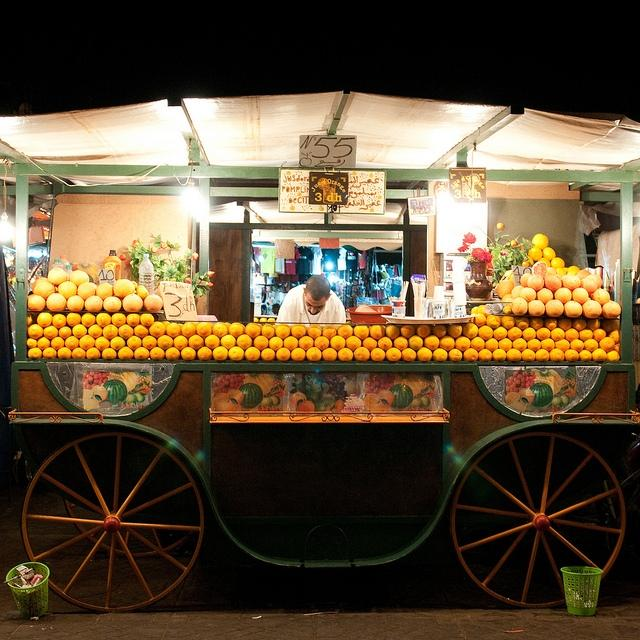orange: (216, 396, 238, 416), (113, 278, 135, 298), (122, 294, 144, 312), (58, 281, 78, 300), (590, 288, 610, 306), (144, 294, 164, 312), (376, 389, 394, 408), (96, 282, 114, 300), (544, 275, 562, 292), (512, 297, 528, 316), (408, 334, 424, 352), (598, 337, 616, 353), (90, 385, 108, 401), (28, 295, 46, 311), (455, 334, 471, 352), (528, 274, 545, 290), (149, 322, 166, 338), (102, 324, 119, 340), (95, 312, 112, 328), (532, 233, 548, 250), (196, 322, 213, 338), (346, 335, 362, 352), (188, 334, 204, 350), (212, 322, 228, 338), (166, 322, 182, 338), (337, 324, 353, 340), (440, 335, 456, 351), (28, 324, 44, 340), (463, 323, 479, 339), (532, 262, 548, 278), (362, 336, 378, 352), (236, 334, 252, 350), (79, 334, 95, 350), (80, 312, 96, 328), (354, 346, 371, 361), (110, 336, 126, 351), (330, 336, 346, 351), (291, 392, 307, 407), (306, 346, 322, 361), (228, 346, 244, 361), (205, 334, 220, 350), (385, 324, 400, 340), (322, 325, 337, 341), (37, 312, 52, 328), (424, 335, 439, 351), (244, 346, 260, 361), (94, 336, 110, 351), (118, 324, 134, 339), (43, 325, 58, 340), (52, 314, 67, 329), (354, 325, 369, 340), (432, 323, 447, 338), (417, 347, 432, 362), (66, 313, 81, 328), (432, 348, 448, 362), (512, 338, 528, 352), (245, 324, 261, 338), (182, 322, 196, 338), (64, 336, 80, 350), (298, 336, 314, 350), (506, 348, 522, 362), (540, 338, 556, 352), (554, 338, 570, 352), (228, 324, 244, 338), (212, 346, 228, 360), (142, 336, 158, 350), (386, 348, 402, 362), (370, 325, 386, 339), (584, 338, 600, 352), (117, 346, 134, 359), (378, 336, 392, 351), (447, 324, 462, 338), (72, 324, 87, 338), (88, 324, 103, 338), (284, 336, 298, 351), (394, 336, 408, 351), (486, 315, 501, 329), (198, 346, 212, 361), (127, 336, 142, 350), (416, 324, 431, 338), (478, 326, 493, 340), (314, 336, 329, 350), (606, 329, 620, 344), (400, 324, 415, 338), (564, 328, 579, 342), (173, 336, 188, 350), (36, 336, 50, 351), (150, 346, 166, 359), (134, 347, 150, 360), (275, 326, 291, 339), (402, 348, 418, 361), (370, 348, 386, 361), (322, 348, 338, 361), (448, 348, 462, 362), (493, 326, 507, 340), (536, 348, 550, 362), (502, 316, 516, 330), (498, 338, 512, 352), (508, 327, 522, 341), (586, 318, 600, 332), (134, 324, 148, 338), (269, 337, 283, 351), (254, 336, 268, 350), (522, 348, 536, 362), (592, 328, 606, 342), (550, 348, 564, 362), (551, 328, 565, 342), (112, 313, 126, 327), (579, 328, 593, 342), (570, 338, 584, 352), (485, 338, 499, 352), (522, 327, 536, 341), (338, 348, 353, 361), (181, 347, 196, 360), (291, 348, 306, 361), (564, 349, 579, 362), (592, 348, 607, 361), (464, 348, 478, 361), (536, 327, 550, 340), (166, 347, 180, 360), (558, 318, 572, 331), (58, 326, 72, 339), (544, 318, 558, 331), (261, 348, 275, 361), (492, 350, 507, 362), (478, 349, 493, 361), (604, 350, 620, 361), (473, 314, 486, 327), (140, 314, 154, 326), (58, 346, 72, 358), (550, 258, 564, 270), (530, 318, 544, 330), (102, 348, 116, 360), (276, 348, 290, 360), (86, 348, 100, 360), (126, 314, 140, 326), (261, 326, 275, 338), (42, 347, 57, 358), (308, 328, 322, 339), (72, 348, 86, 358), (28, 348, 42, 358), (580, 350, 592, 361), (307, 324, 322, 331), (27, 338, 37, 348), (471, 314, 478, 324), (614, 343, 620, 354), (272, 324, 278, 329), (51, 313, 56, 317)
